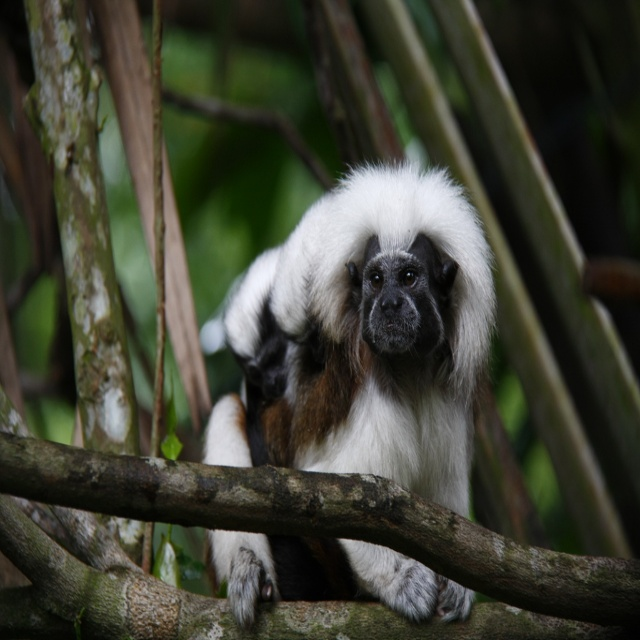Monkey: (202, 155, 501, 629)
